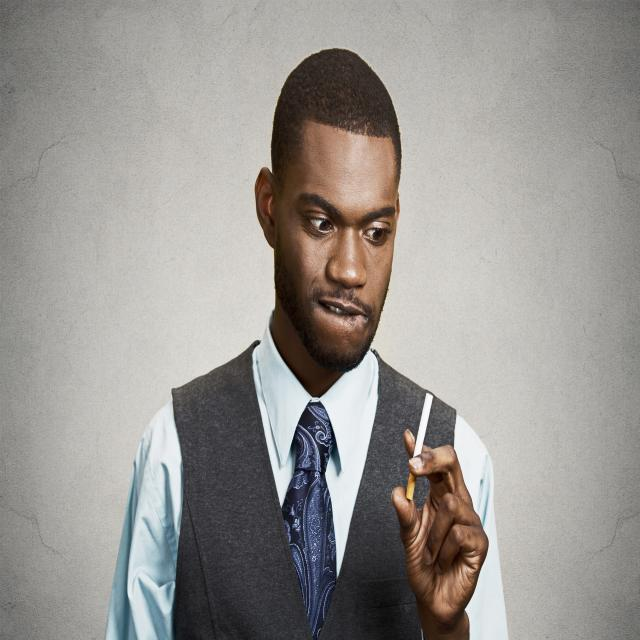mobile_phonerotation: (128, 41, 531, 640)
